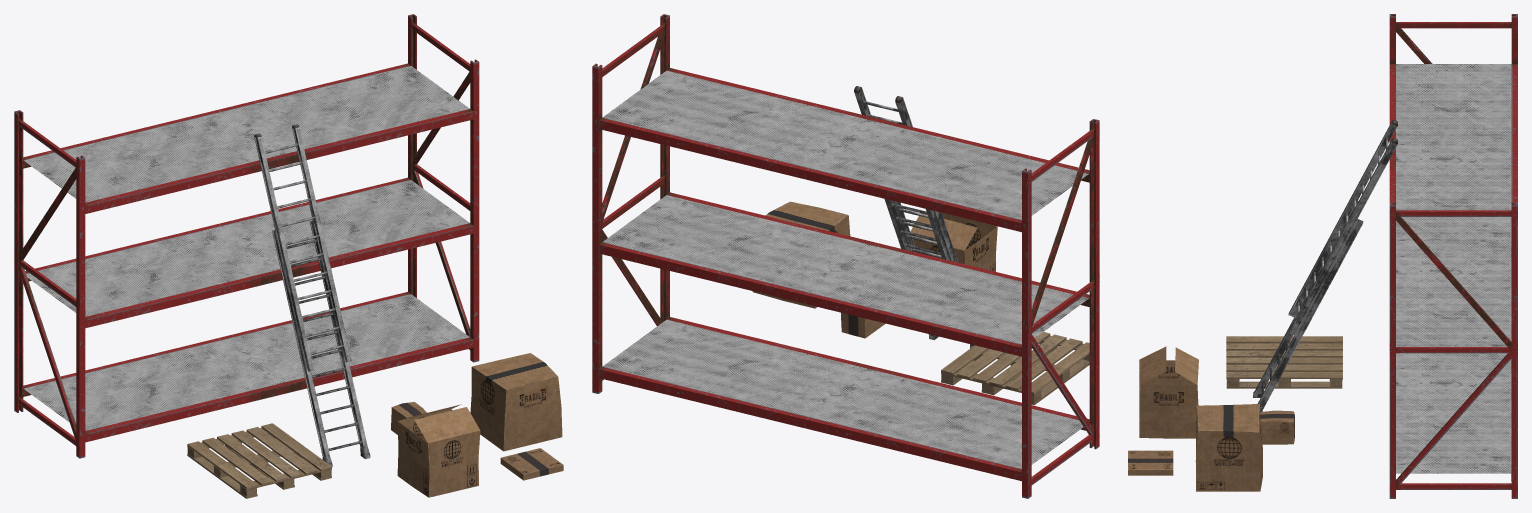
Rendered from worn_warehouse_shelf.glb.
The picture shows the model from 3 angles, left to right: view 1: azimuth 30°, elevation 25°; view 2: azimuth 150°, elevation 25°; view 3: azimuth 270°, elevation 25°; orthographic projection. The views are drawn at different scales.
Visible parts, largest first — view 1: Shelf, Ladder, Box1, Box4, Pallet, Box3; view 2: Shelf, Pallet, Ladder, Box4, Box1, Box2; view 3: Shelf, Ladder, Box1, Pallet, Box4, Box3, Box2.
Boxes of the visible parts, x1,y1,x2,y2 form: Shelf: (14,14,479,458); Ladder: (254,124,370,467); Box1: (470,353,562,451); Box4: (397,404,480,497); Pallet: (187,423,331,498); Box3: (500,448,563,480); Shelf: (592,14,1099,498); Pallet: (941,332,1089,405); Ladder: (854,86,974,348); Box4: (910,213,997,271); Box1: (752,201,850,308); Box2: (841,312,885,338); Shelf: (1389,14,1517,498); Ladder: (1253,120,1397,411); Box1: (1195,404,1262,491); Pallet: (1226,336,1342,388); Box4: (1139,346,1198,438); Box3: (1128,450,1173,475); Box2: (1260,410,1294,444).
Size of the model in its own units: 5.08 by 3.67 by 4.38.
1 material, 1 textured.
